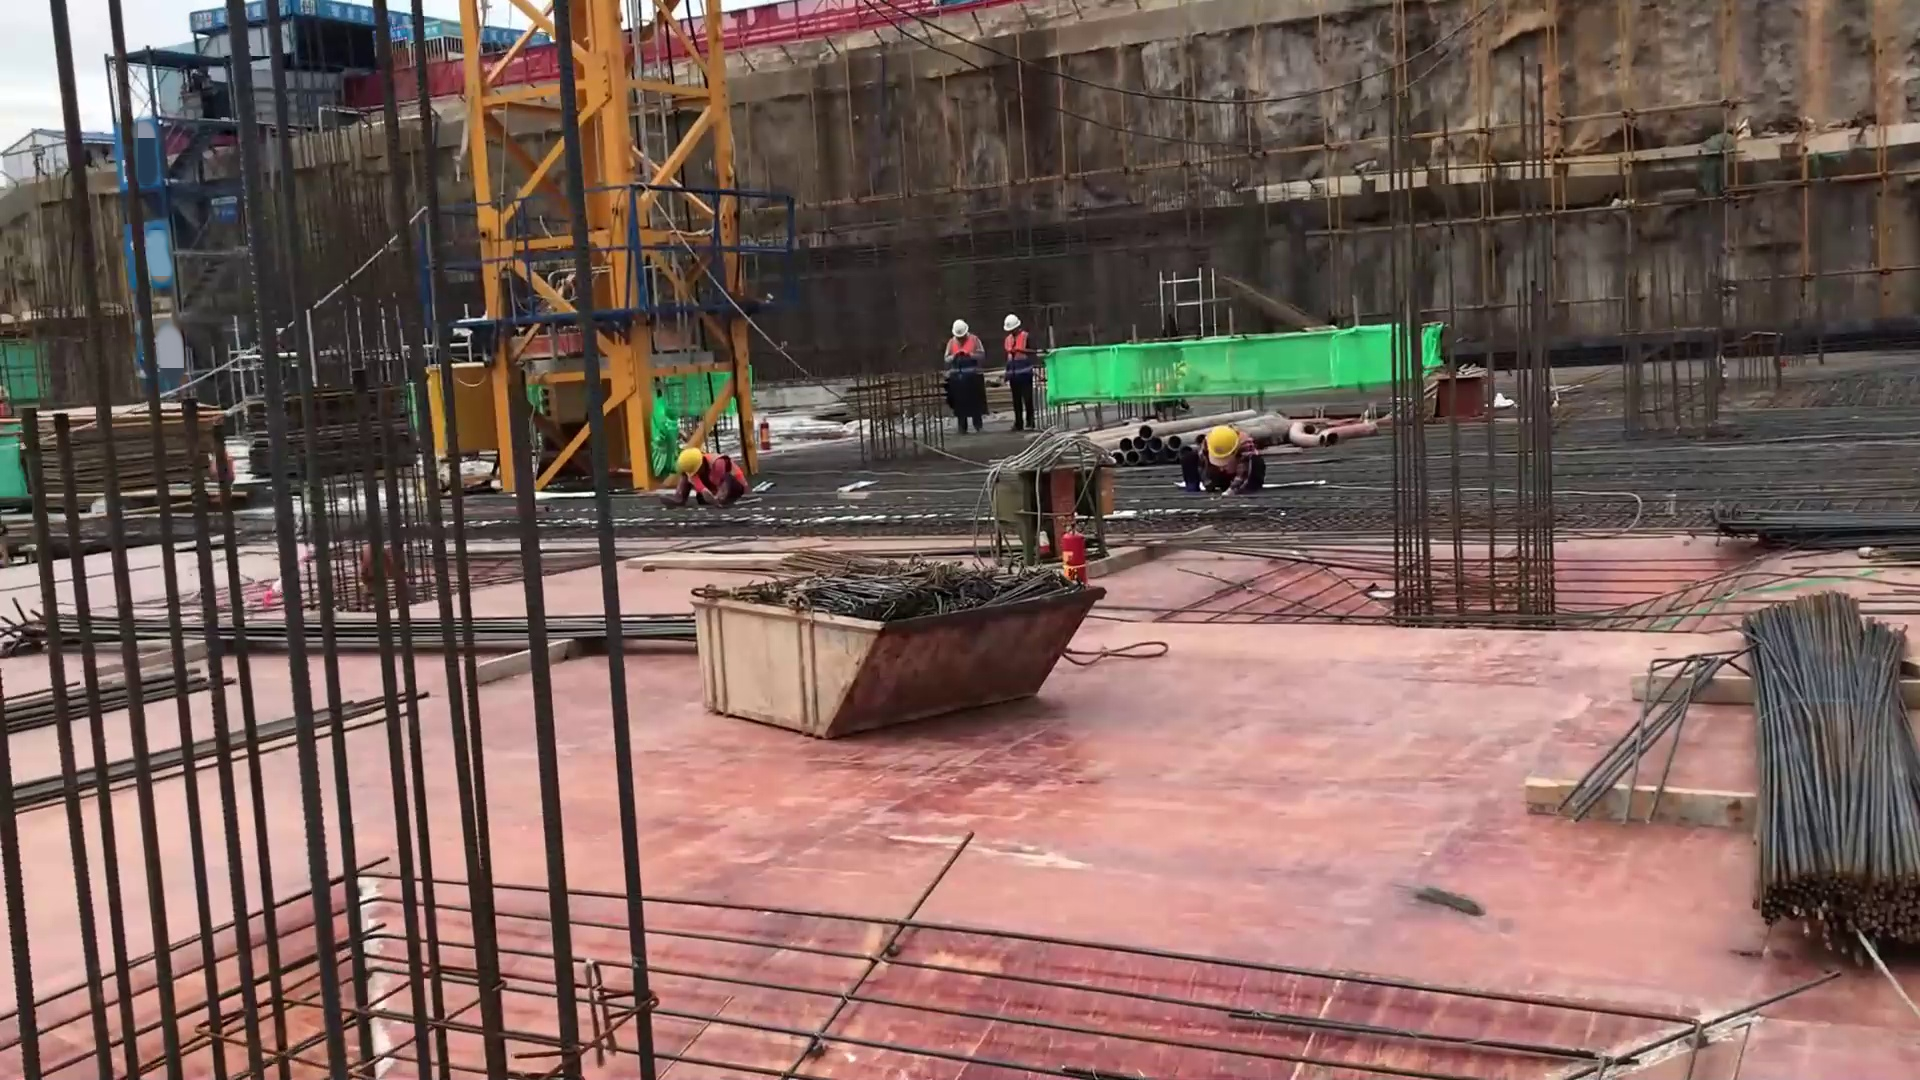board: (40, 402, 216, 489)
ebox: (423, 360, 500, 487), (535, 358, 587, 425)
helmet: (1206, 426, 1240, 458), (677, 449, 703, 475), (1004, 314, 1020, 332), (952, 319, 969, 337)
hopper: (682, 546, 1117, 745)
person: (1175, 422, 1268, 499), (660, 446, 749, 518), (941, 316, 991, 437), (999, 311, 1036, 435)
rebar: (1740, 592, 1920, 963), (1737, 511, 1920, 545)
vest: (688, 455, 748, 508), (1005, 331, 1031, 383), (949, 333, 976, 381)
